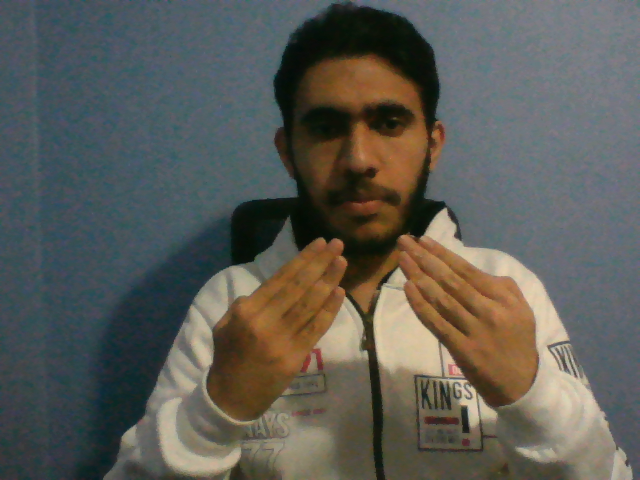thanks: (208, 228, 543, 426)
